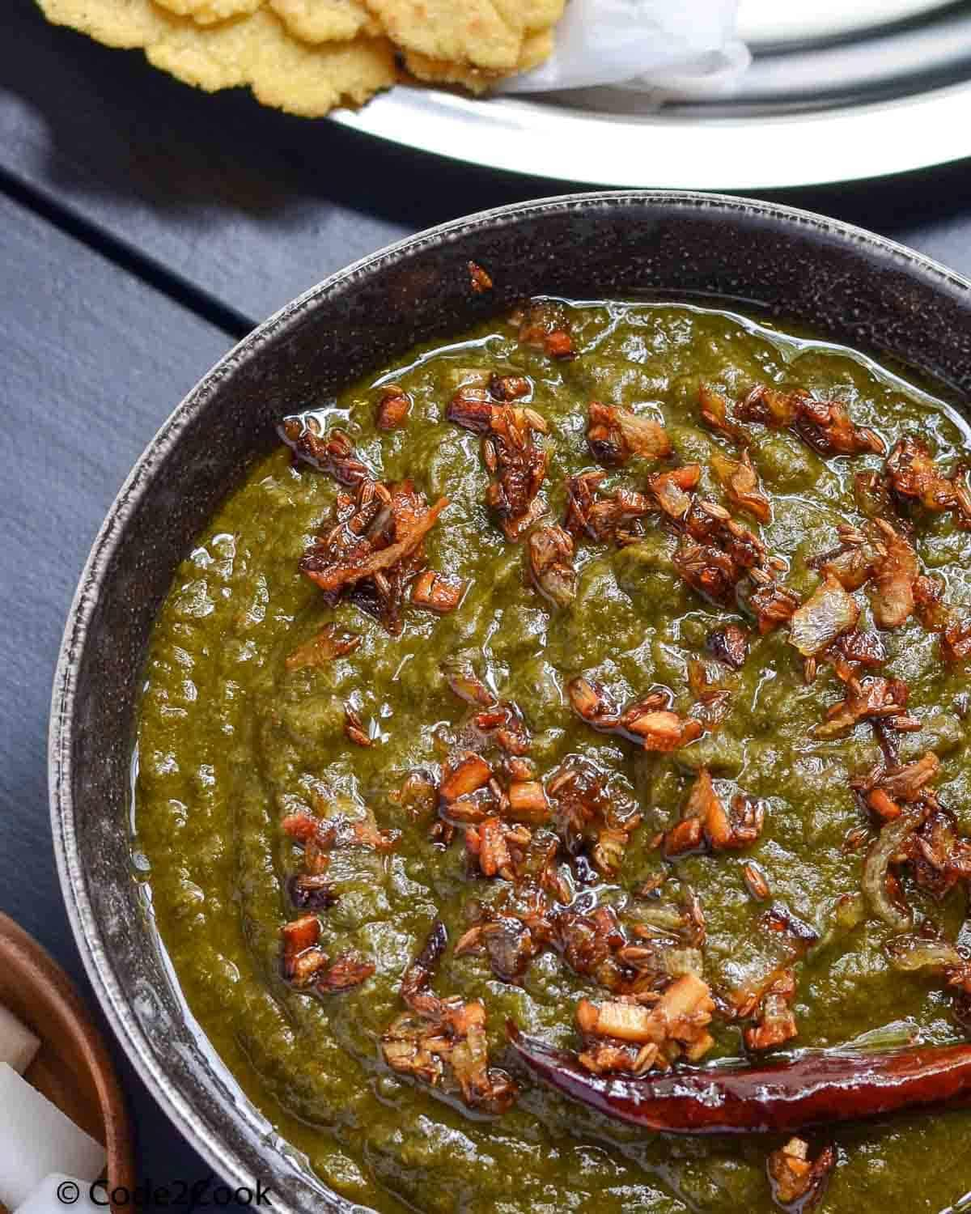saag: (125, 290, 971, 1214)
